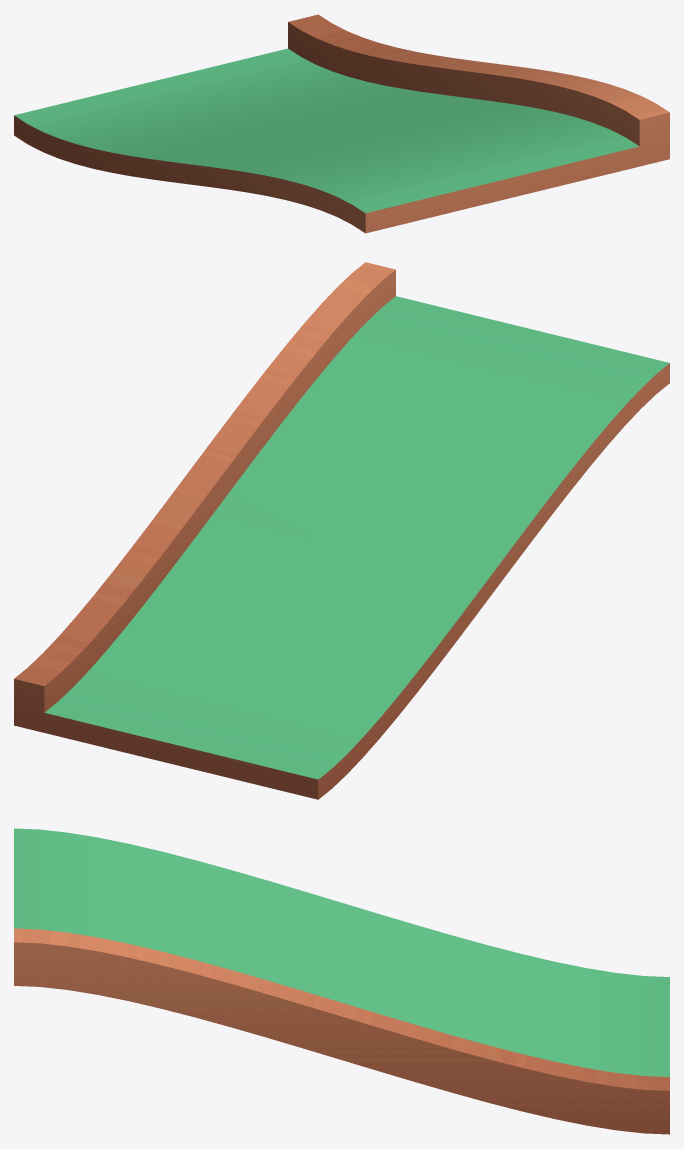
Rendered from ramp-large-side.glb.
3 renders of one model, top to bottom at view 1: azimuth 30°, elevation 25°; view 2: azimuth 150°, elevation 25°; view 3: azimuth 270°, elevation 25°, orthographic. The views are drawn at different scales.
Parts seen in each view (by area): view 1: ramp-large-side; view 2: ramp-large-side; view 3: ramp-large-side.
Part boxes in pixels (bbox=[...]): ramp-large-side: bbox=[14, 14, 669, 233]; ramp-large-side: bbox=[14, 262, 669, 799]; ramp-large-side: bbox=[14, 828, 669, 1134].
Bounding box in the file's own units: 0.9999 × 0.6467 × 2.
1 material, 1 textured.
